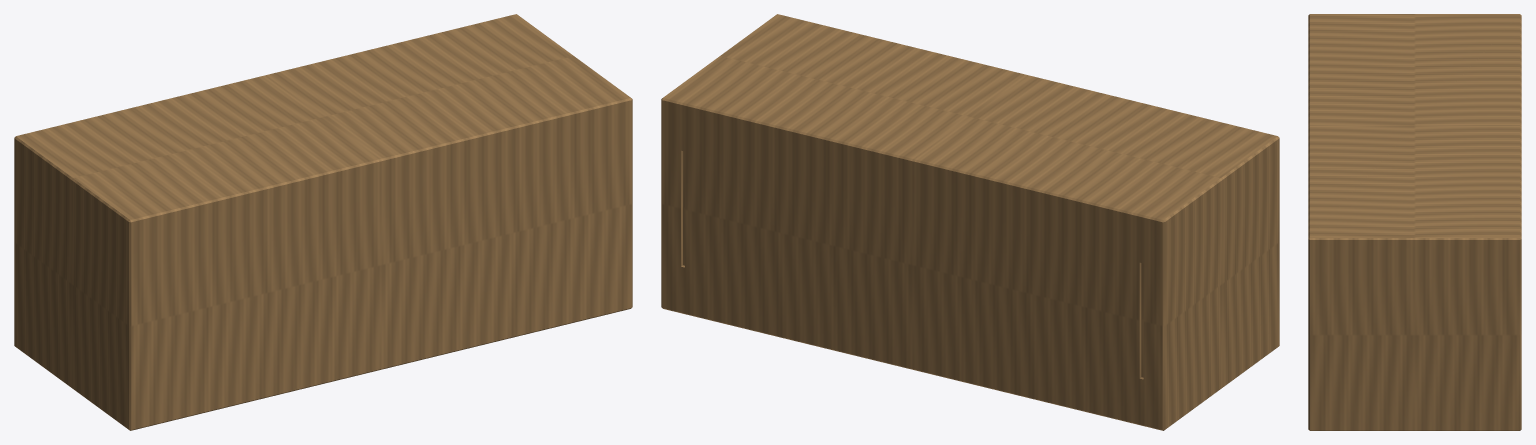
File: beam.glb
The picture shows the model from 3 angles, left to right: view 1: azimuth 30°, elevation 25°; view 2: azimuth 150°, elevation 25°; view 3: azimuth 270°, elevation 25°; orthographic projection. The views are drawn at different scales.
Visible parts, largest first — view 1: beam.001; view 2: beam.001; view 3: beam.001.
Boxes of the visible parts, bbox=[...] form: beam.001: bbox=[14, 14, 632, 430]; beam.001: bbox=[661, 14, 1279, 430]; beam.001: bbox=[1308, 14, 1521, 430].
Size of the model in its own units: 1 by 0.4 by 0.4.
1 material, 1 textured.
